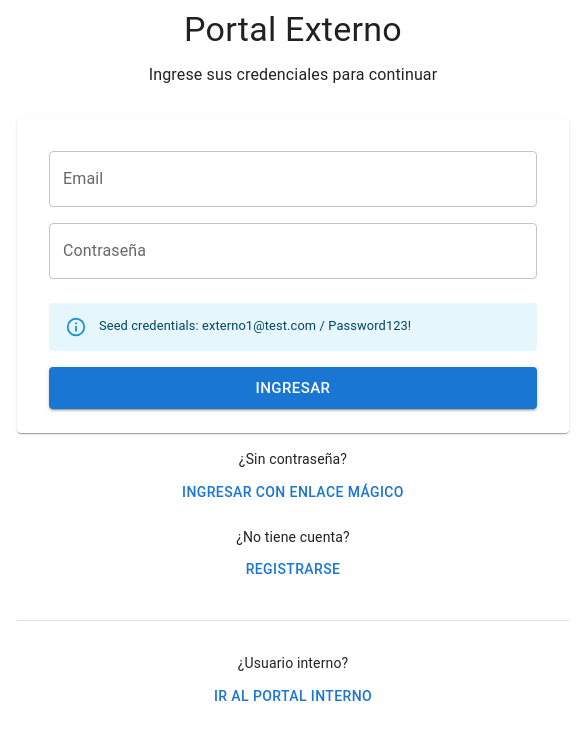
ExternoLoginPage › shows error for invalid email
Type "notanemail" into the field labelled "Email" at (293, 179), box [49, 151, 537, 207]
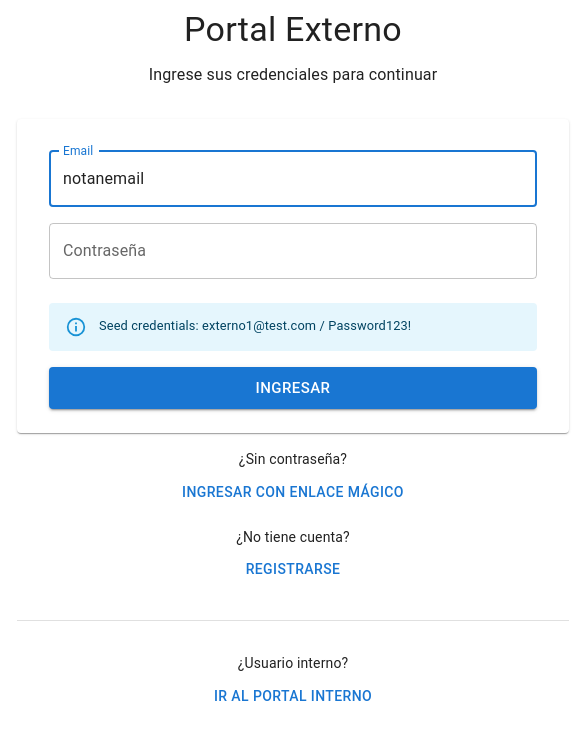
Click the button "Ingresar" at (293, 388), box [49, 367, 537, 409]
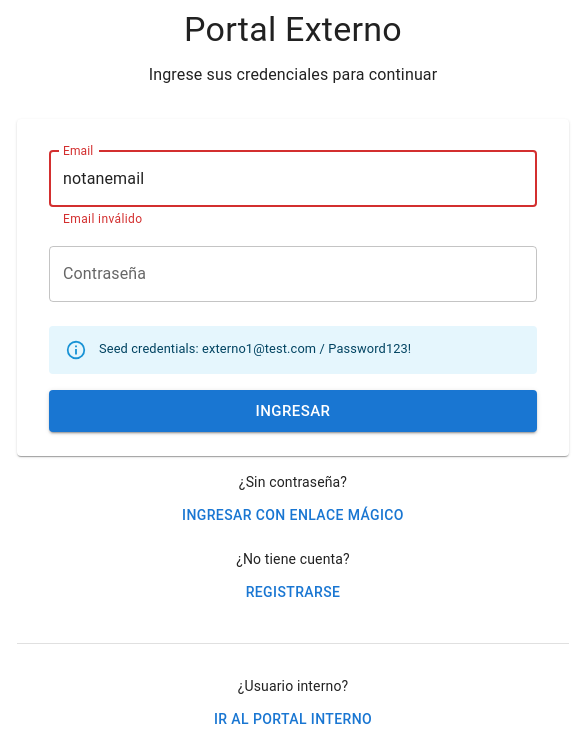
Expected: the text "Email inválido" is shown, [63, 212, 142, 226]
